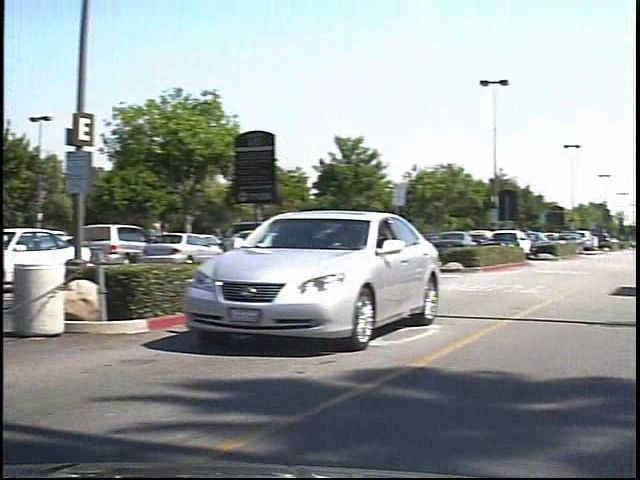person: (156, 216, 183, 266)
